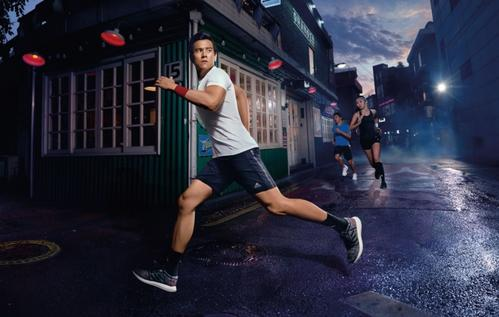no_mask: (186, 31, 218, 71), (354, 97, 367, 110), (331, 112, 342, 125)
